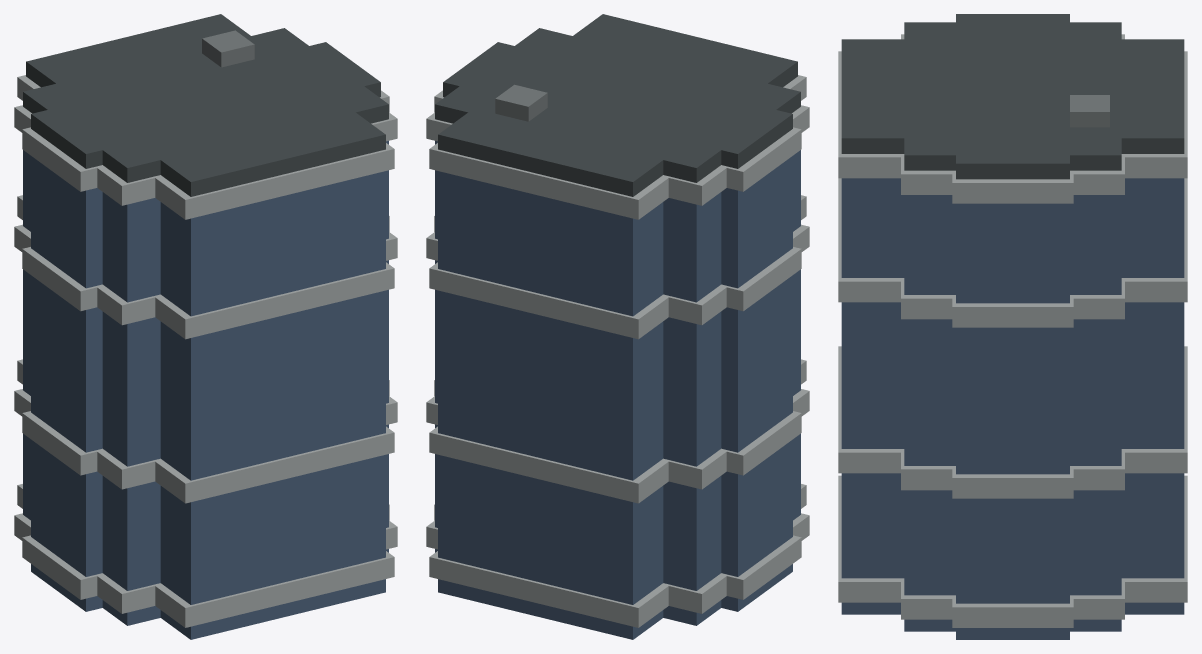
File: CMU3DBarrelBlue.glb
3 renders of one model, left to right at view 1: azimuth 30°, elevation 25°; view 2: azimuth 150°, elevation 25°; view 3: azimuth 270°, elevation 25°, orthographic. The views are drawn at different scales.
Visible parts, largest first — view 1: curved body segment 1, curved body segment 3, stepped hoop segment 1 (×4), curved body segment 2, lid segment 3, lid segment 1, stepped hoop segment 3 (×4), lid segment 2, stepped hoop segment 2 (×4), lid segment 5, lid segment 4, curved body segment 4 (+1 smaller); view 2: curved body segment 5, curved body segment 3, stepped hoop segment 5 (×4), curved body segment 4, lid segment 3, lid segment 5, stepped hoop segment 3 (×4), stepped hoop segment 4 (×4), lid segment 4, lid segment 2, lid segment 1, curved body segment 2 (+1 smaller); view 3: curved body segment 3, curved body segment 1, curved body segment 5, curved body segment 2, curved body segment 4, lid segment 3, stepped hoop segment 3 (×4), stepped hoop segment 1 (×4), stepped hoop segment 5 (×4), lid segment 2, lid segment 1, lid segment 5 (+4 smaller).
Boxes of the visible parts, left/top/right/bottom form: curved body segment 1: left=160, top=171, right=385, bottom=639; curved body segment 3: left=31, top=156, right=102, bottom=611; stepped hoop segment 1 (×4): left=154, top=143, right=394, bottom=627; curved body segment 2: left=102, top=141, right=388, bottom=625; lid segment 3: left=31, top=42, right=380, bottom=168; lid segment 1: left=160, top=112, right=385, bottom=196; stepped hoop segment 3 (×4): left=22, top=90, right=389, bottom=599; lid segment 2: left=102, top=86, right=388, bottom=182; stepped hoop segment 2 (×4): left=96, top=112, right=397, bottom=613; lid segment 5: left=26, top=14, right=250, bottom=87; lid segment 4: left=23, top=28, right=308, bottom=113; curved body segment 4: left=23, top=150, right=30, bottom=520; curved body segment 5: left=438, top=171, right=663, bottom=639; curved body segment 3: left=721, top=156, right=792, bottom=611; stepped hoop segment 5 (×4): left=429, top=143, right=669, bottom=627; curved body segment 4: left=435, top=141, right=721, bottom=625; lid segment 3: left=443, top=42, right=792, bottom=168; lid segment 5: left=438, top=112, right=663, bottom=196; stepped hoop segment 3 (×4): left=434, top=90, right=801, bottom=599; stepped hoop segment 4 (×4): left=426, top=112, right=727, bottom=613; lid segment 4: left=435, top=86, right=721, bottom=182; lid segment 2: left=515, top=28, right=800, bottom=113; lid segment 1: left=573, top=14, right=797, bottom=87; curved body segment 2: left=793, top=150, right=800, bottom=520; curved body segment 3: left=956, top=203, right=1069, bottom=639; curved body segment 1: left=841, top=178, right=904, bottom=614; curved body segment 5: left=1121, top=178, right=1184, bottom=614; curved body segment 2: left=904, top=195, right=955, bottom=631; curved body segment 4: left=1070, top=195, right=1121, bottom=631; lid segment 3: left=956, top=14, right=1069, bottom=179; stepped hoop segment 3 (×4): left=952, top=170, right=1073, bottom=627; stepped hoop segment 1 (×4): left=838, top=51, right=904, bottom=602; stepped hoop segment 5 (×4): left=1122, top=51, right=1187, bottom=602; lid segment 2: left=904, top=22, right=955, bottom=170; lid segment 1: left=841, top=39, right=904, bottom=153; lid segment 5: left=1121, top=39, right=1184, bottom=153.
Size of the model in its own units: 0.65 by 0.95 by 0.612.
